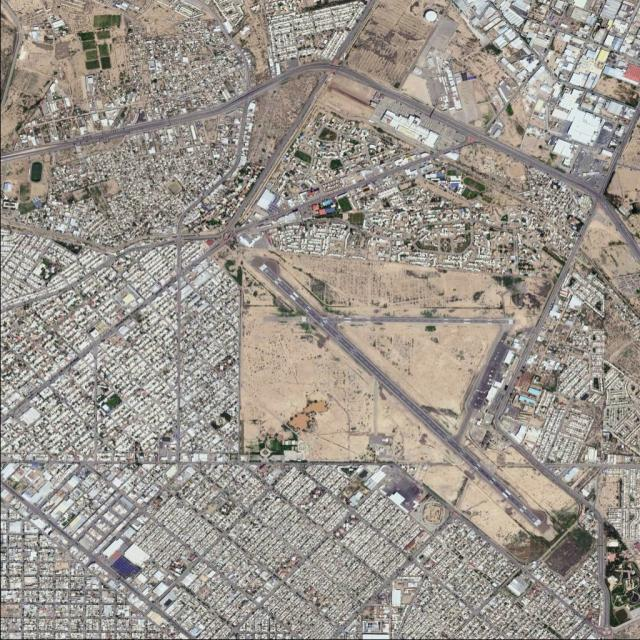storage-tank: (424, 9, 438, 22)
